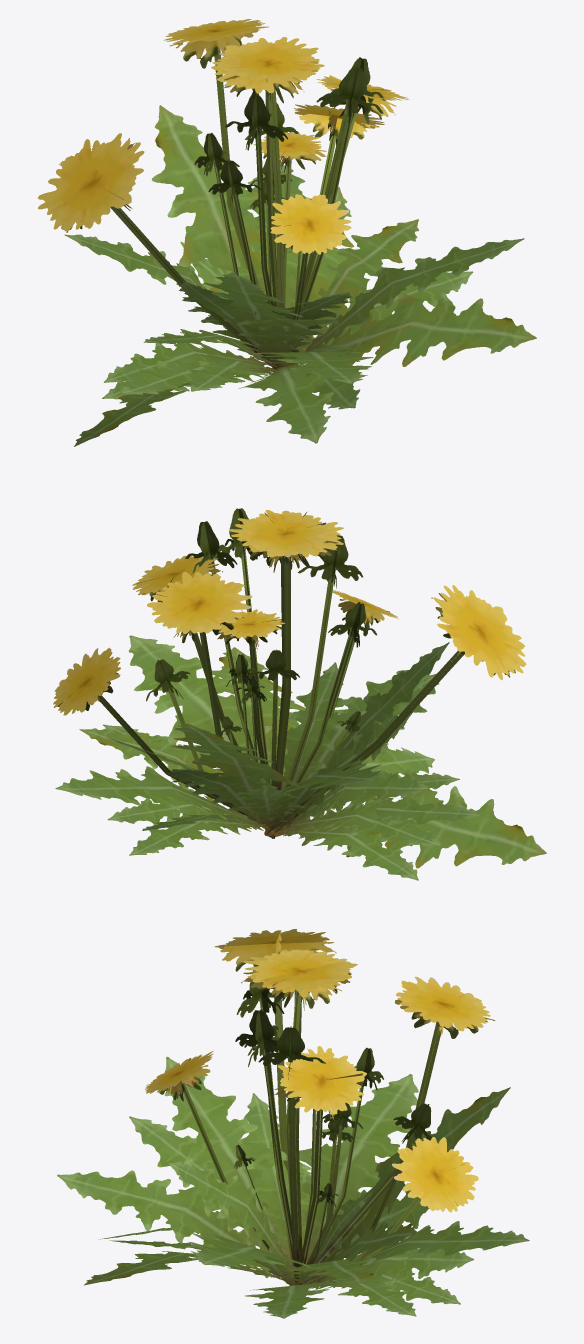
File: dandelions.glb
3 views of the same model, one above another, from view 1: azimuth 30°, elevation 25°; view 2: azimuth 150°, elevation 25°; view 3: azimuth 270°, elevation 25° (orthographic). The views are drawn at different scales.
Parts seen in each view (by area): view 1: Dandelion.003_Dandelion_Mat_0, Dandelion.002_Dandelion_Mat_0, Dandelion.001_Dandelion_Mat_0, Dandelion.005_Dandelion_Mat_0; view 2: Dandelion.003_Dandelion_Mat_0, Dandelion.001_Dandelion_Mat_0, Dandelion.002_Dandelion_Mat_0, Dandelion.005_Dandelion_Mat_0; view 3: Dandelion.003_Dandelion_Mat_0, Dandelion.002_Dandelion_Mat_0, Dandelion.001_Dandelion_Mat_0, Dandelion.005_Dandelion_Mat_0.
Boxes of the visible parts, <box> form: Dandelion.003_Dandelion_Mat_0: <box>104,19,536,443</box>; Dandelion.002_Dandelion_Mat_0: <box>38,37,473,369</box>; Dandelion.001_Dandelion_Mat_0: <box>74,48,408,446</box>; Dandelion.005_Dandelion_Mat_0: <box>102,57,524,409</box>; Dandelion.003_Dandelion_Mat_0: <box>53,508,442,855</box>; Dandelion.001_Dandelion_Mat_0: <box>55,510,546,868</box>; Dandelion.002_Dandelion_Mat_0: <box>103,510,526,838</box>; Dandelion.005_Dandelion_Mat_0: <box>106,521,482,880</box>; Dandelion.003_Dandelion_Mat_0: <box>57,976,494,1304</box>; Dandelion.002_Dandelion_Mat_0: <box>214,929,510,1318</box>; Dandelion.001_Dandelion_Mat_0: <box>145,949,529,1316</box>; Dandelion.005_Dandelion_Mat_0: <box>110,964,416,1285</box>.
Size of the model in its own units: 0.3786 by 0.2396 by 0.3615.
1 material, 1 textured.
